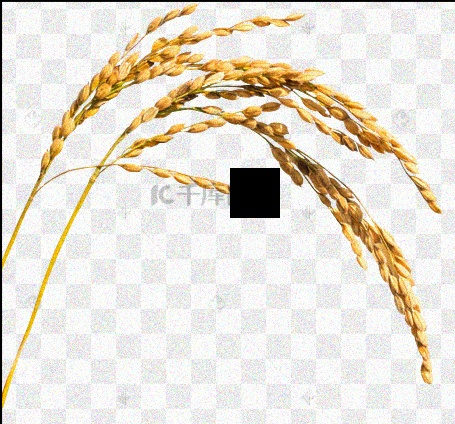rice: (87, 88, 431, 385), (26, 5, 442, 197)
